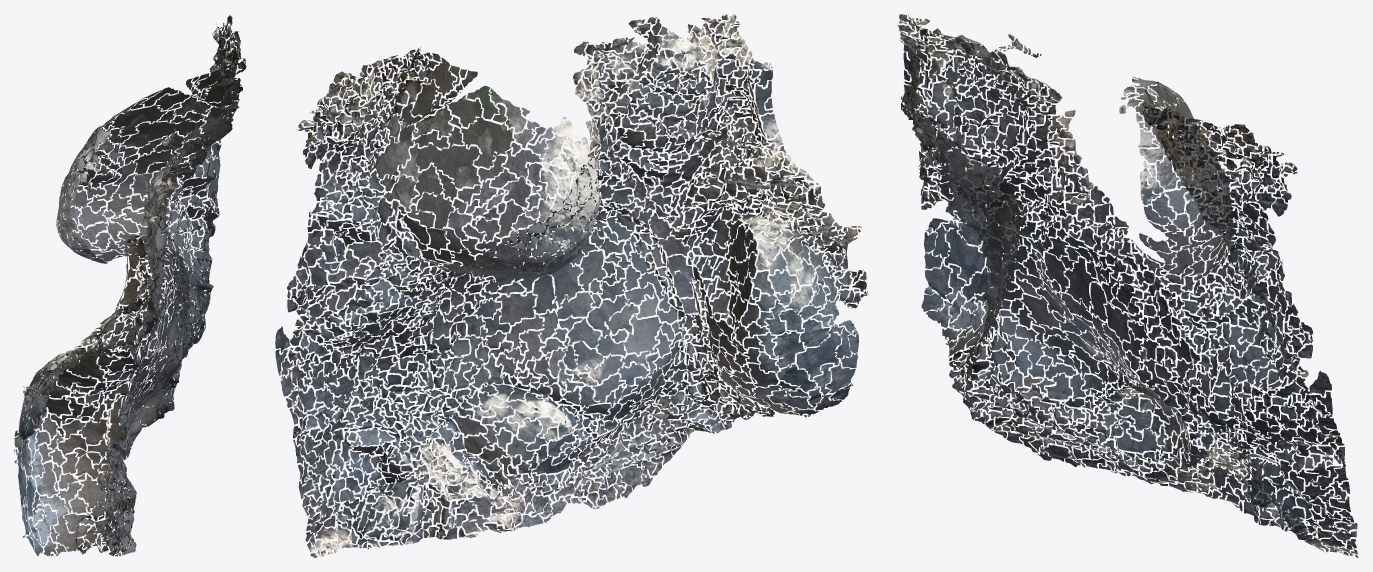
File: gst5.glb
The picture shows the model from 3 angles, left to right: view 1: azimuth 30°, elevation 25°; view 2: azimuth 150°, elevation 25°; view 3: azimuth 270°, elevation 25°; orthographic projection. The views are drawn at different scales.
Size of the model in its own units: 28.56 by 30.1 by 27.92.
1 material, 1 textured.
